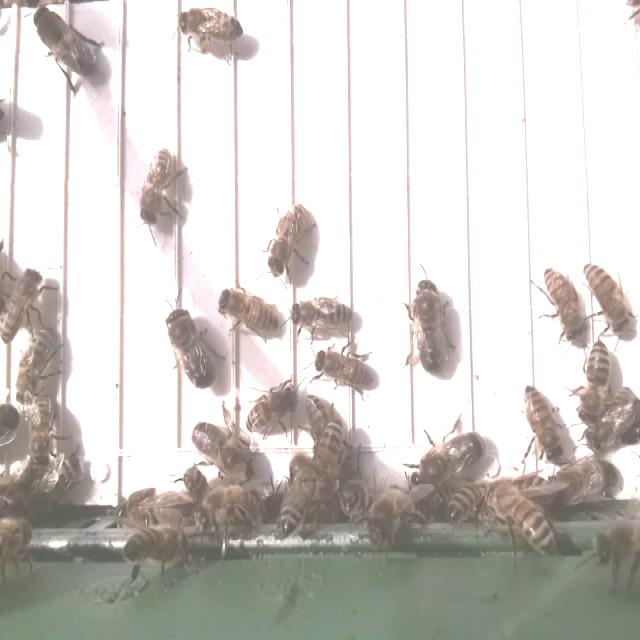Drone: (31, 4, 102, 82), (162, 305, 221, 394), (408, 430, 489, 491), (188, 415, 253, 482), (409, 275, 450, 378)
Worker: (217, 281, 285, 339), (540, 263, 583, 351), (584, 257, 632, 335), (0, 264, 46, 343), (133, 145, 174, 231), (264, 201, 307, 282), (520, 378, 560, 464), (16, 325, 57, 406), (174, 3, 251, 46), (577, 335, 614, 424), (309, 346, 377, 391), (243, 381, 298, 436), (290, 295, 356, 334), (313, 412, 345, 487)
